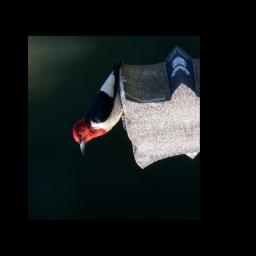Woodpecker: (60, 52, 142, 159)
